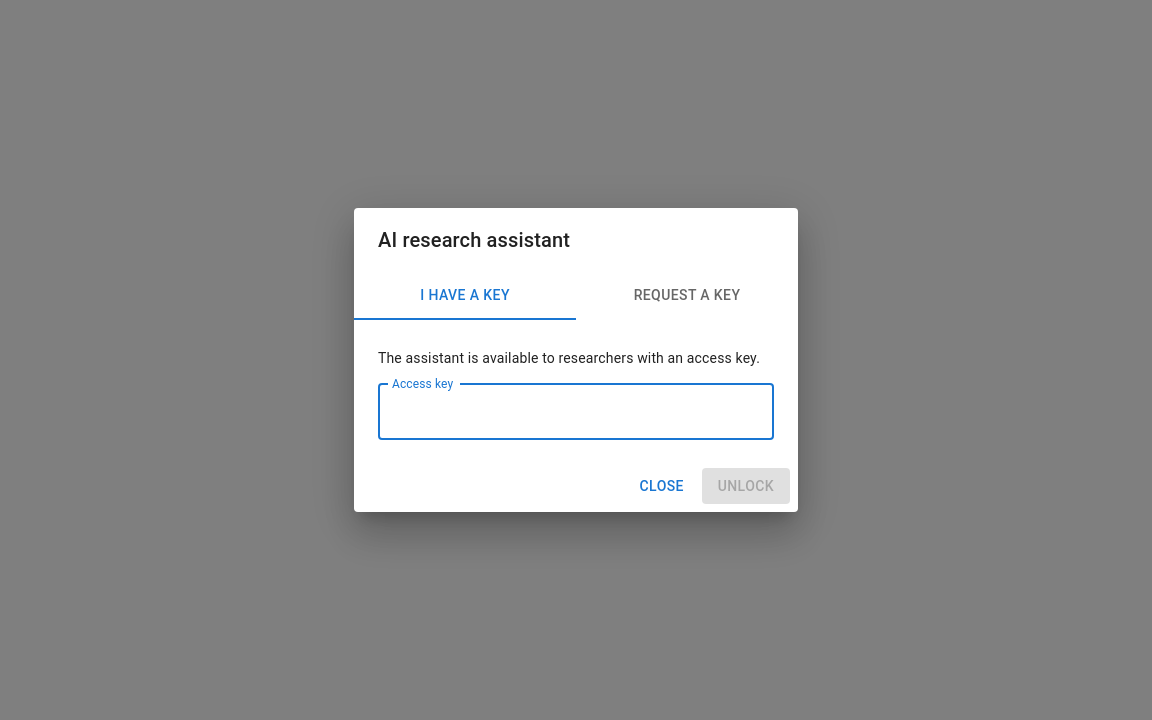
Test: AIAccessModal › explains a lockout instead of a wrong key
Type "x" into the password field labelled "Access key" at (576,412), box [378,384,774,440]
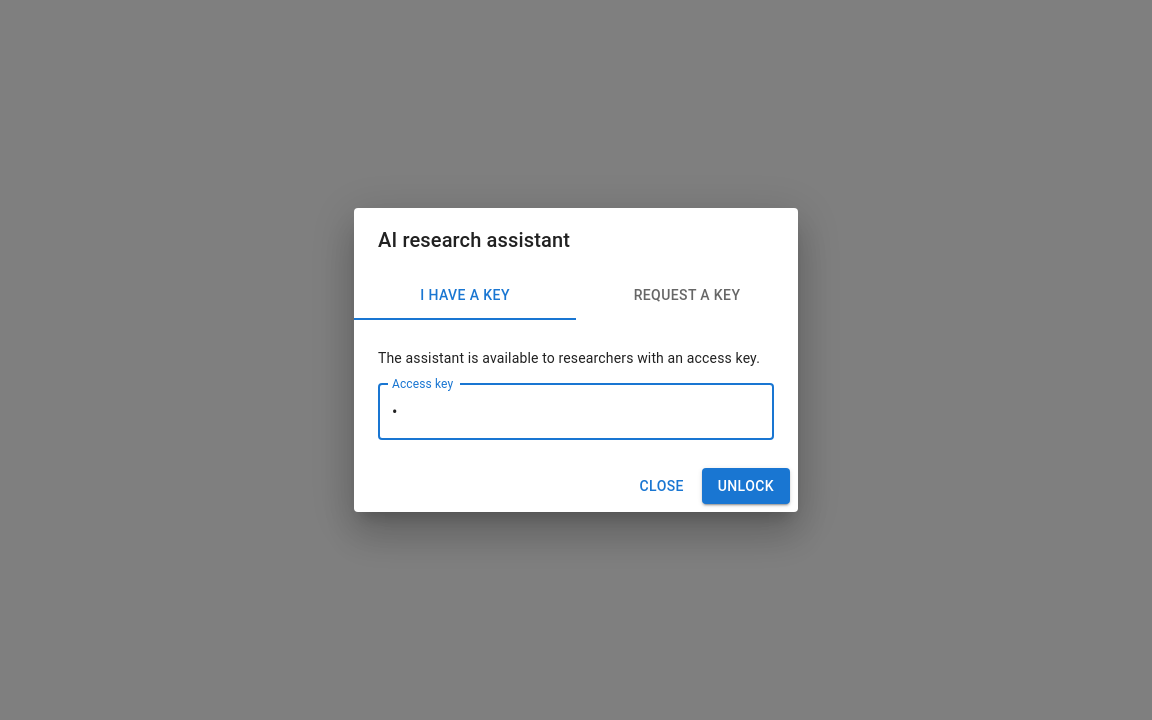
Click the button "Unlock" at (746,486), box [702,468,790,504]
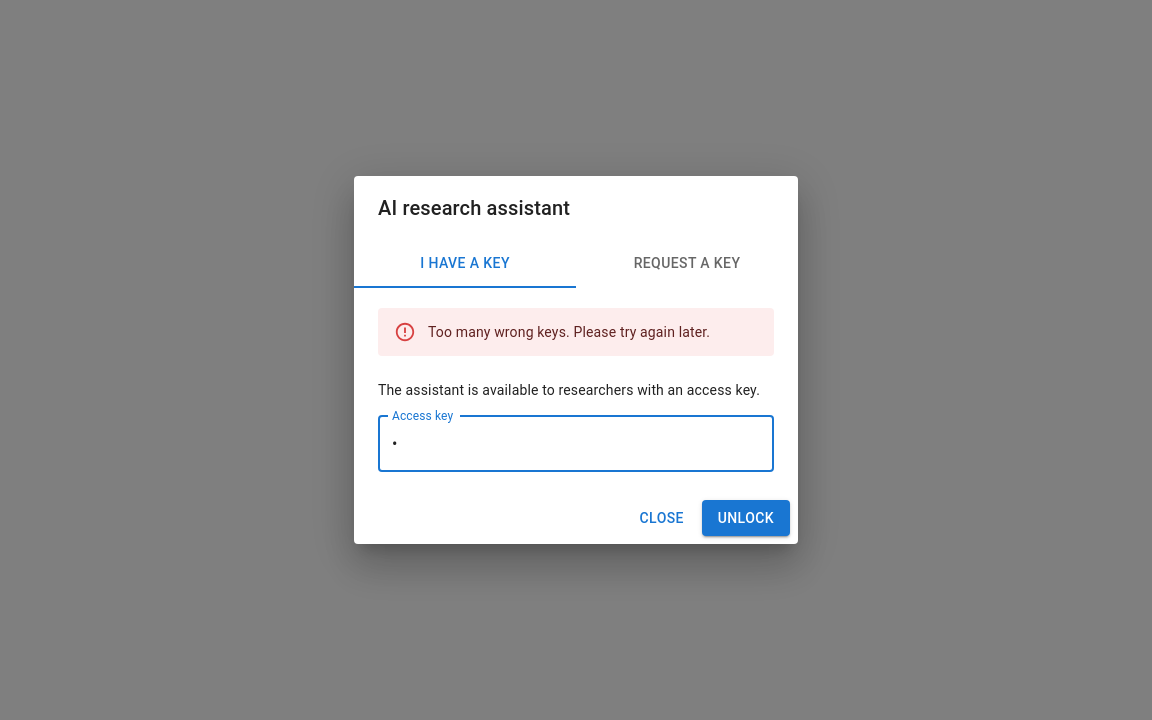
expect the text "Too many wrong keys. Please try again later." is shown: met, box [428,324,710,340]
